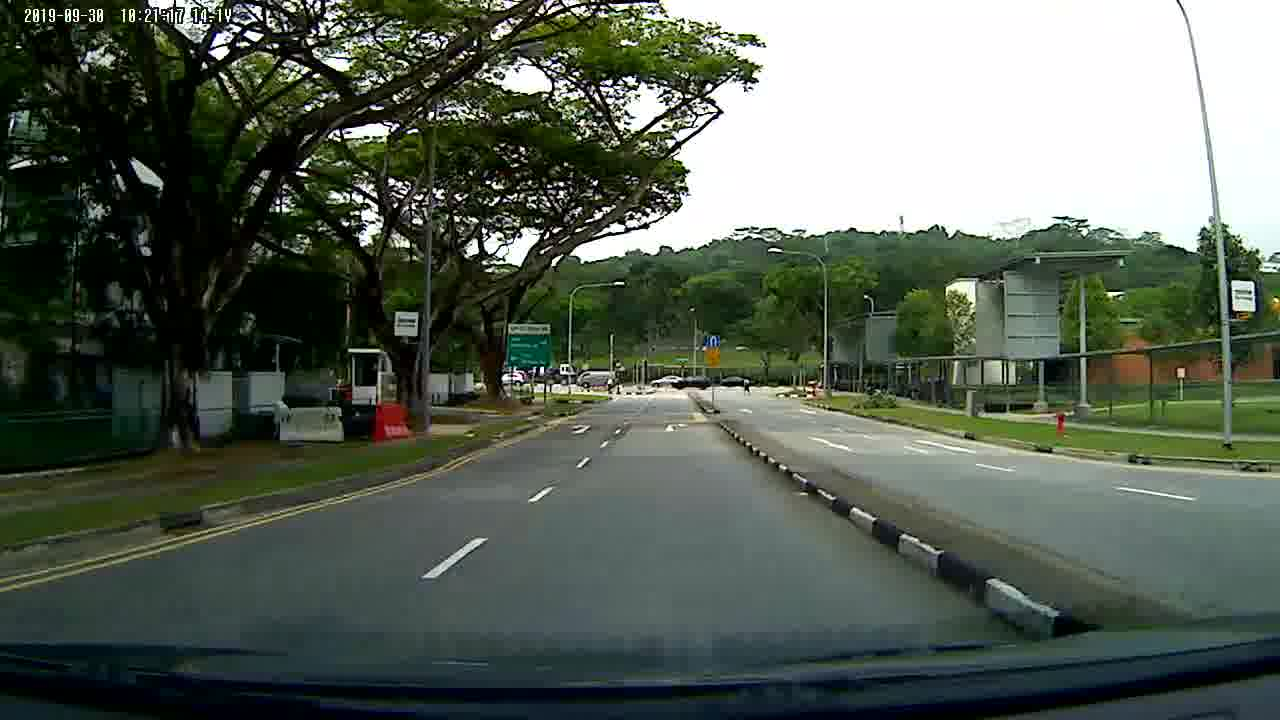car: (648, 375, 681, 388)
